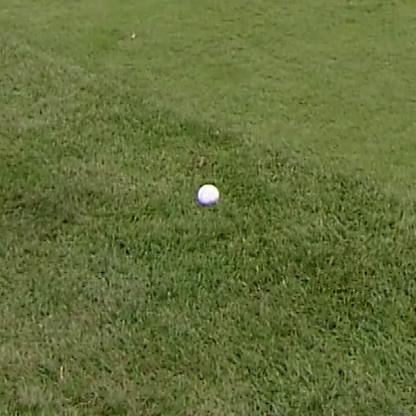golfball: (197, 179, 219, 203)
